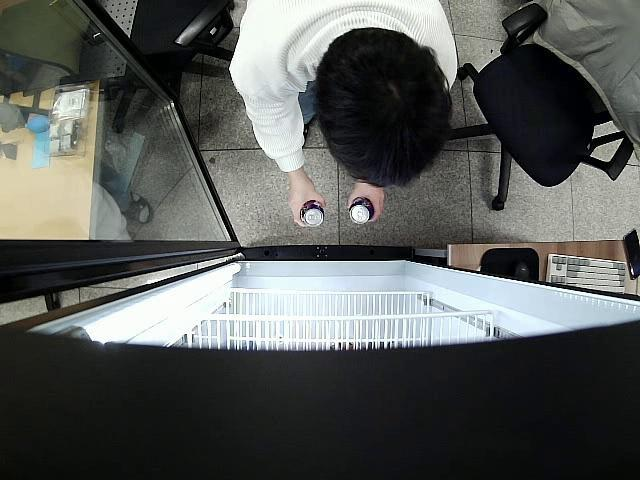14_welchsGrape: (348, 198, 376, 223), (300, 201, 326, 226)
